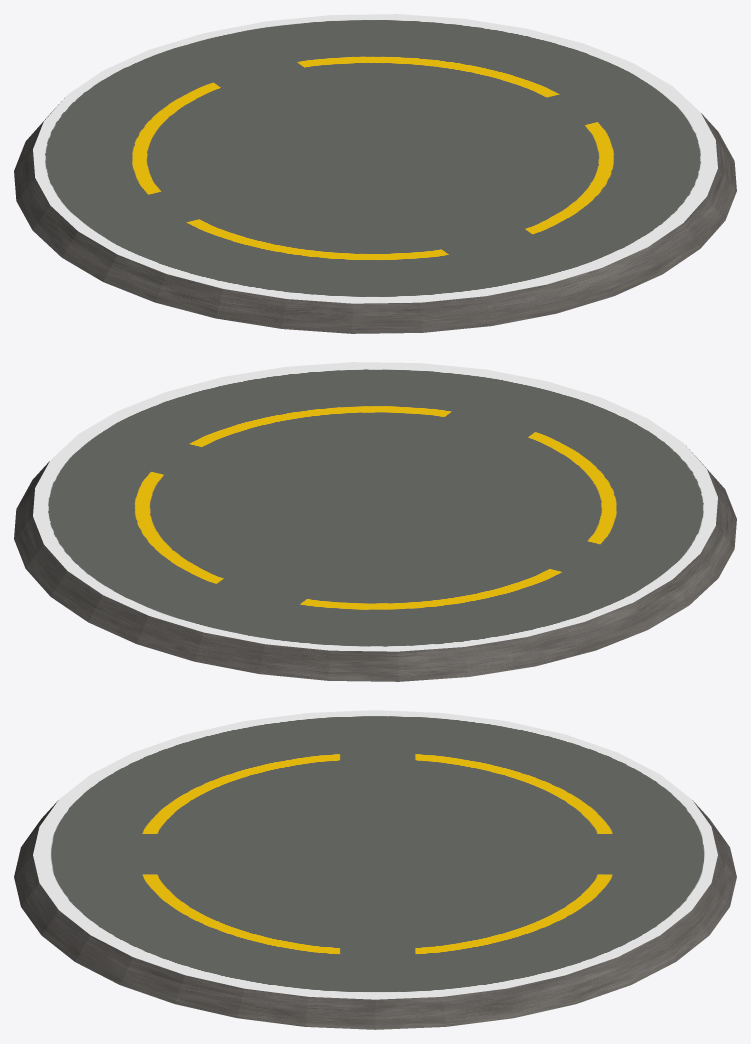
Rendered from inisalanv1.fbx.
3 renders of one model, top to bottom at view 1: azimuth 30°, elevation 25°; view 2: azimuth 150°, elevation 25°; view 3: azimuth 270°, elevation 25°, orthographic.
Visible parts, largest first — view 1: Cylinder; view 2: Cylinder; view 3: Cylinder.
Part boxes in pixels (x1,y1,x2,y2): Cylinder: [14, 14, 736, 333]; Cylinder: [14, 362, 736, 681]; Cylinder: [14, 710, 736, 1029].
Size of the model in its own units: 8000 by 271 by 8000.
Materials: 2 (2 with a texture image).
